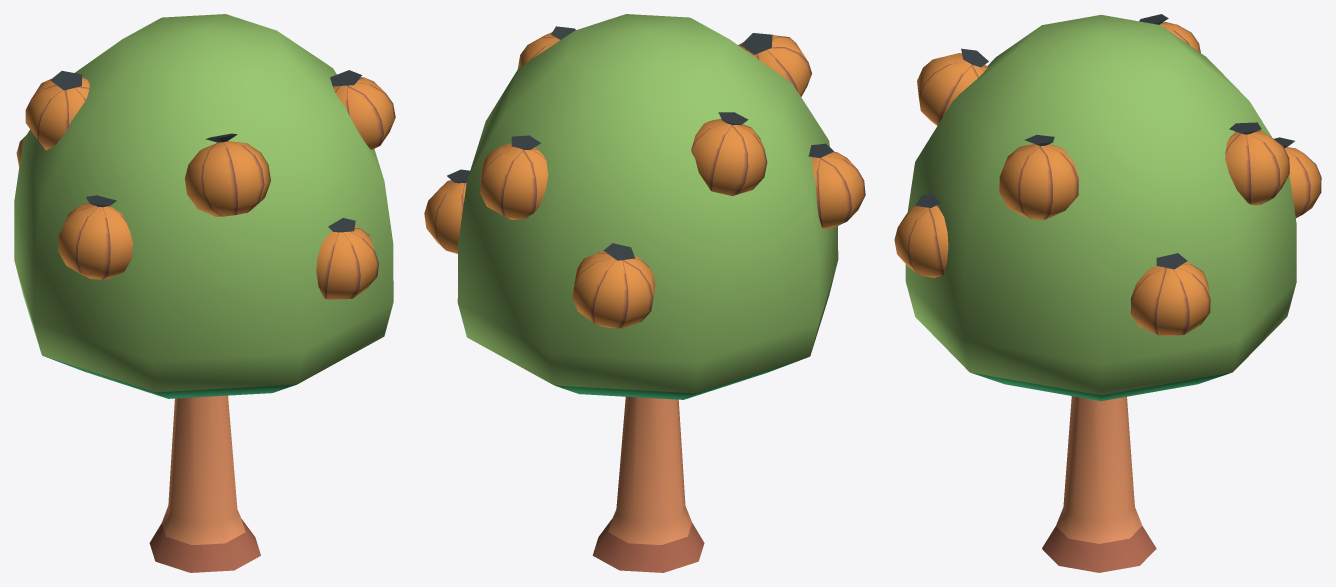
Rendered from Tree_c.FBX.
The picture shows the model from 3 angles, left to right: view 1: azimuth 30°, elevation 25°; view 2: azimuth 150°, elevation 25°; view 3: azimuth 270°, elevation 25°; orthographic projection.
Visible parts, largest first — view 1: Tree_c; view 2: Tree_c; view 3: Tree_c.
Part boxes in pixels (<box>): Tree_c: <box>14,14,395,572</box>; Tree_c: <box>424,14,865,572</box>; Tree_c: <box>894,14,1321,572</box>.
Bounding box in the file's own units: 172 × 238 × 180.
